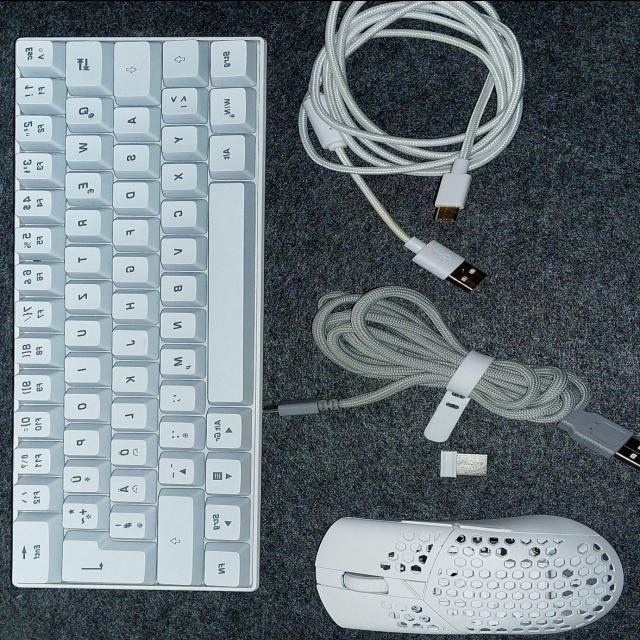0: (12, 408, 52, 437)
1: (11, 75, 53, 103)
2: (12, 112, 54, 142)
3: (12, 149, 54, 179)
4: (12, 187, 52, 217)
5: (11, 224, 53, 254)
6: (11, 260, 53, 290)
7: (12, 297, 52, 326)
8: (13, 334, 53, 363)
9: (13, 371, 53, 400)
a: (110, 104, 149, 134)
accent: (12, 482, 52, 511)
ae: (106, 473, 146, 501)
alt-left: (206, 132, 245, 171)
altgr-right: (202, 408, 242, 448)
b: (157, 271, 195, 301)
c: (158, 197, 196, 227)
caret: (13, 39, 55, 67)
comma: (156, 382, 194, 410)
d: (110, 179, 148, 208)
del: (13, 518, 53, 584)
e: (62, 169, 102, 199)
enter: (59, 533, 147, 583)
f: (109, 217, 147, 245)
g: (109, 253, 147, 281)
h: (109, 290, 147, 318)
hash: (106, 508, 148, 538)
i: (62, 354, 100, 382)
j: (109, 326, 147, 354)
k: (108, 363, 147, 391)
keyboard: (7, 31, 267, 595)
l: (108, 399, 146, 427)
less: (158, 85, 196, 113)
m: (157, 344, 196, 374)
minus: (156, 454, 194, 484)
n: (157, 308, 195, 338)
o: (61, 390, 99, 419)
oe: (107, 435, 146, 464)
p: (60, 427, 98, 455)
plus: (59, 499, 98, 527)
point: (156, 419, 194, 447)
q: (63, 94, 103, 124)
r: (62, 207, 100, 235)
s: (111, 142, 149, 170)
shift-left: (160, 36, 198, 76)
shift-lock: (112, 38, 150, 96)
shift-right: (154, 492, 194, 584)
space: (204, 178, 246, 404)
ss: (13, 445, 53, 474)
strg-left: (207, 36, 246, 76)
strg-right: (205, 501, 244, 539)
t: (61, 244, 99, 272)
tab: (62, 38, 102, 86)
u: (61, 317, 99, 345)
ue: (60, 463, 99, 491)
v: (157, 234, 195, 264)
w: (62, 132, 101, 160)
x: (158, 160, 196, 189)
y: (158, 123, 196, 151)
z: (62, 281, 100, 309)
